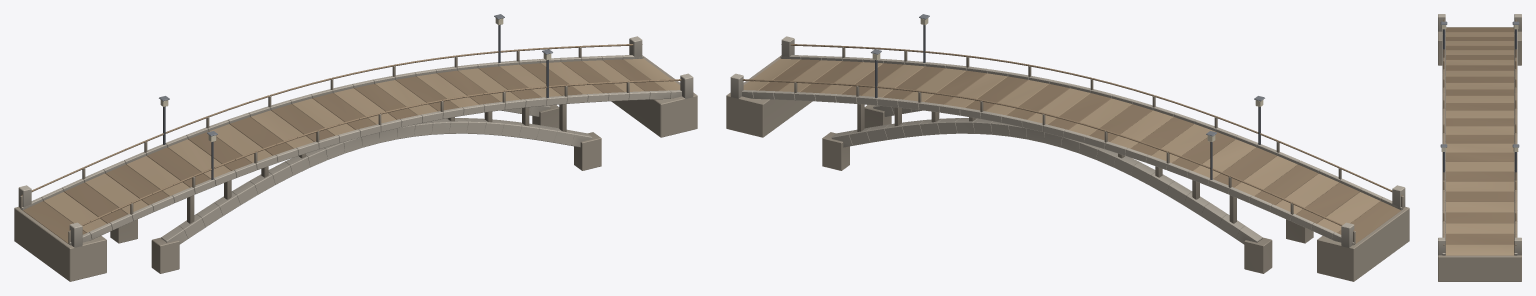
File: bridge_yunseul.glb
3 renders of one model, left to right at view 1: azimuth 30°, elevation 25°; view 2: azimuth 150°, elevation 25°; view 3: azimuth 270°, elevation 25°, orthographic. The views are drawn at different scales.
Bounding box in the file's own units: 50.6 × 9.82 × 7.8.
